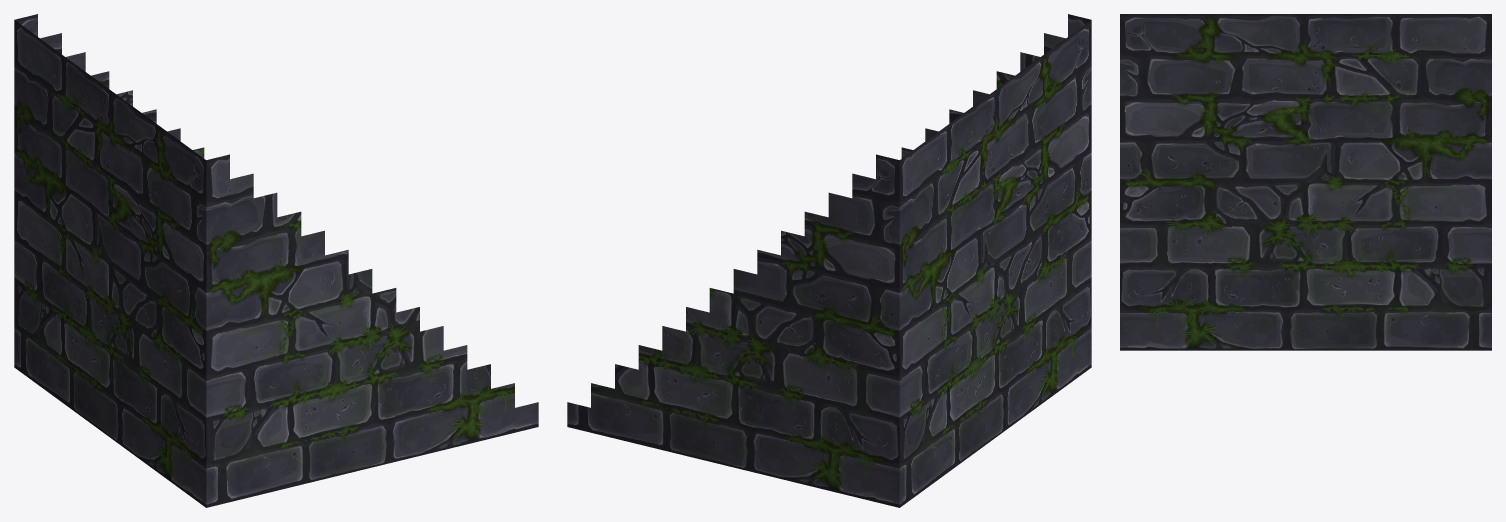
The model's file is MOD_Stairs_01_WallCover_1.fbx.
The picture shows the model from 3 angles, left to right: view 1: azimuth 30°, elevation 25°; view 2: azimuth 150°, elevation 25°; view 3: azimuth 270°, elevation 25°; orthographic projection. The views are drawn at different scales.
Visible parts, largest first — view 1: MOD_Stairs_01_WallCover_1; view 2: MOD_Stairs_01_WallCover_1; view 3: MOD_Stairs_01_WallCover_1.
Part boxes in pixels (x1,y1,x2,y2): MOD_Stairs_01_WallCover_1: (14, 14, 538, 507); MOD_Stairs_01_WallCover_1: (567, 14, 1091, 507); MOD_Stairs_01_WallCover_1: (1120, 14, 1491, 350).
Size of what is drawn, in the model's own units: 400 by 400 by 400.
